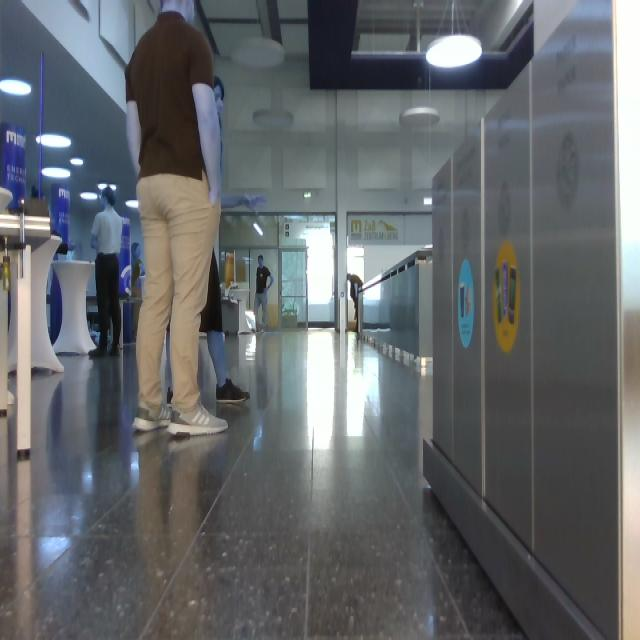banner: (3, 126, 27, 213)
desk: (219, 300, 247, 334)
door: (219, 216, 332, 328)
light bulb: (425, 34, 481, 68), (231, 38, 284, 69), (400, 106, 437, 128), (253, 110, 293, 128), (1, 82, 32, 98), (36, 136, 71, 150), (43, 169, 70, 181), (79, 194, 97, 202), (253, 222, 262, 237), (126, 201, 140, 210), (98, 185, 108, 192)
person: (129, 1, 228, 433), (91, 189, 122, 356), (252, 256, 273, 330), (347, 269, 362, 334)
staircase: (359, 249, 428, 370)
table: (1, 214, 56, 457), (53, 262, 96, 356), (36, 241, 64, 373), (11, 292, 21, 372)
tiled floor: (1, 329, 527, 640)
trash bin: (421, 1, 640, 640)
